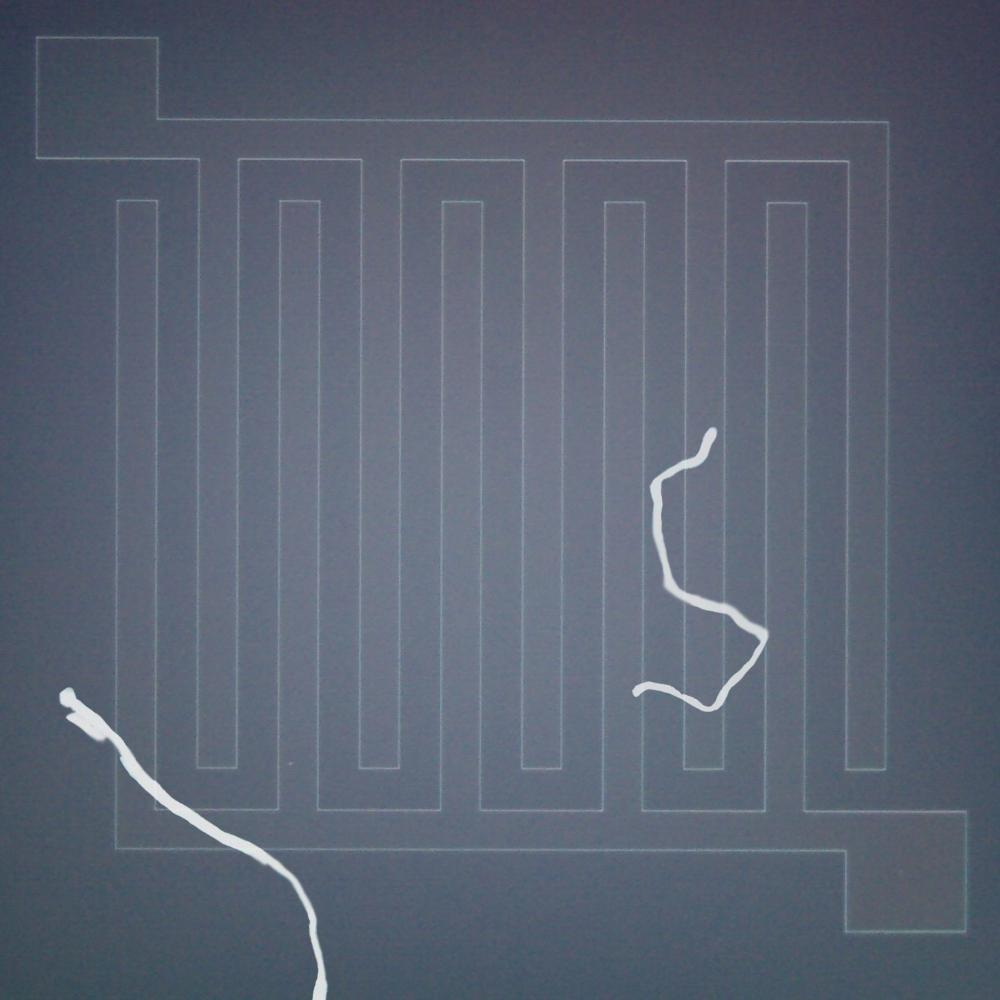line: (51, 684, 350, 1000), (622, 424, 776, 719)
